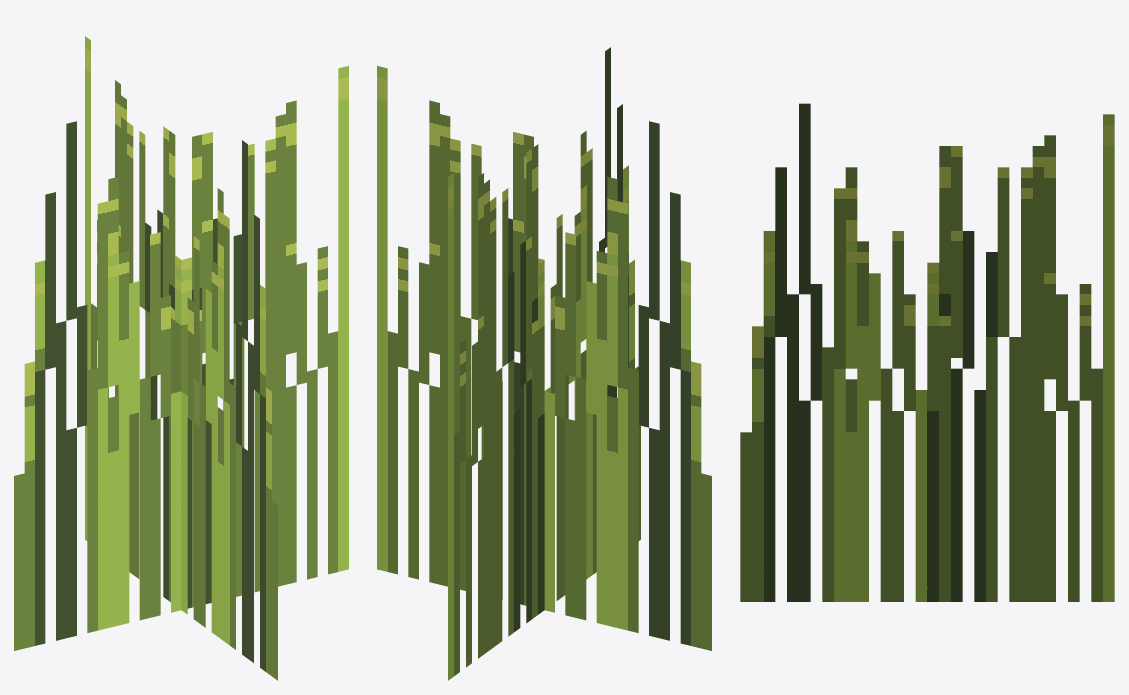
Rendered from grass_tall.glb.
3 views of the same model, side by side, from view 1: azimuth 30°, elevation 25°; view 2: azimuth 150°, elevation 25°; view 3: azimuth 270°, elevation 25° (orthographic). The views are drawn at different scales.
Visible parts, largest first — view 1: grass_tall; view 2: grass_tall; view 3: grass_tall.
Boxes of the visible parts, box(x1,y1,x2,y2) form: grass_tall: box(14, 36, 348, 680); grass_tall: box(377, 47, 711, 680); grass_tall: box(740, 103, 1114, 601).
Size of the model in its own units: 32 by 48 by 32.
1 material, 1 textured.
